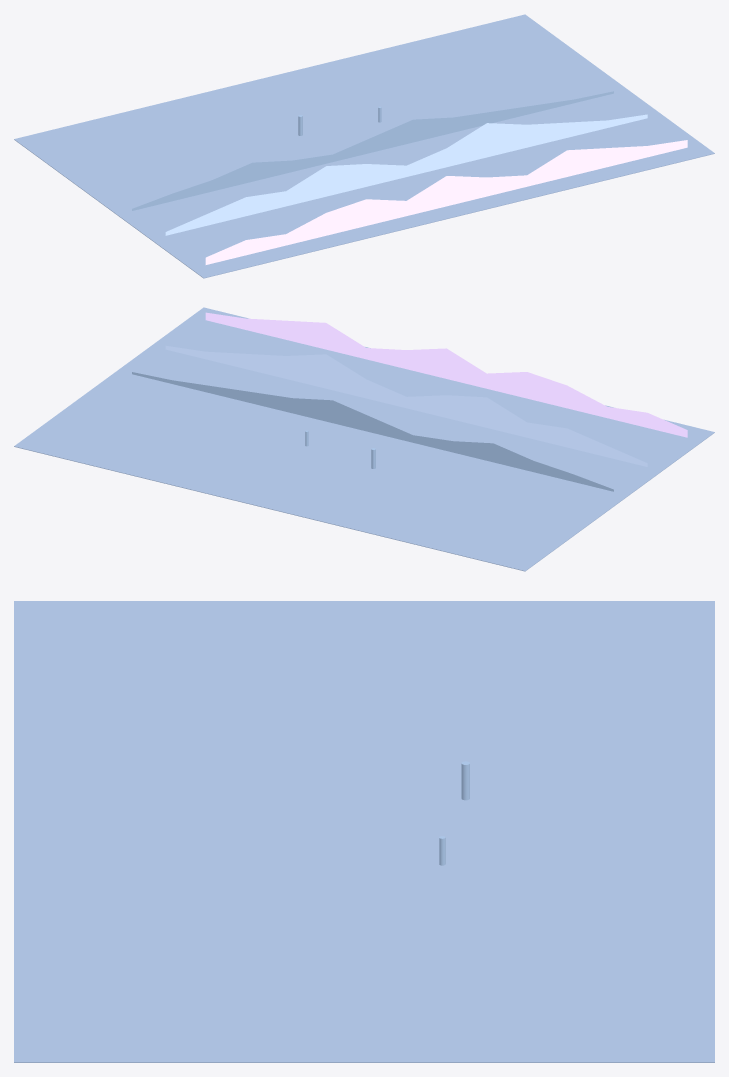
File: sky.gltf
3 renders of one model, top to bottom at view 1: azimuth 30°, elevation 25°; view 2: azimuth 150°, elevation 25°; view 3: azimuth 270°, elevation 25°, orthographic. The views are drawn at different scales.
Visible parts, largest first — view 1: Exhibit; view 2: Exhibit; view 3: Exhibit.
Boxes of the visible parts, <box> form: Exhibit: <box>14,14,714,278</box>; Exhibit: <box>14,307,714,571</box>; Exhibit: <box>14,601,714,1062</box>.
Bounding box in the file's own units: 140 × 9.2 × 90.
